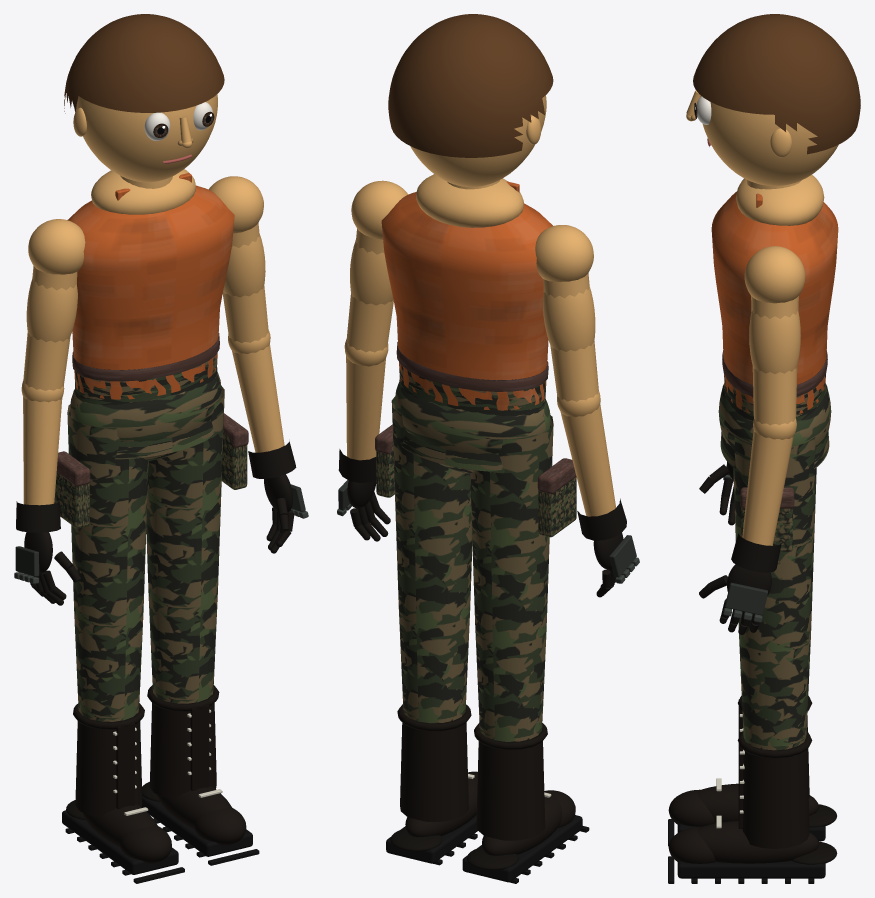
File: 06-debardeur.glb
The picture shows the model from 3 angles, left to right: view 1: azimuth 30°, elevation 25°; view 2: azimuth 150°, elevation 25°; view 3: azimuth 270°, elevation 25°; orthographic projection. The views are drawn at different scales.
Bounding box in the file's own units: 0.6344 × 1.77 × 0.3715.
Materials: 22 (4 with a texture image).
